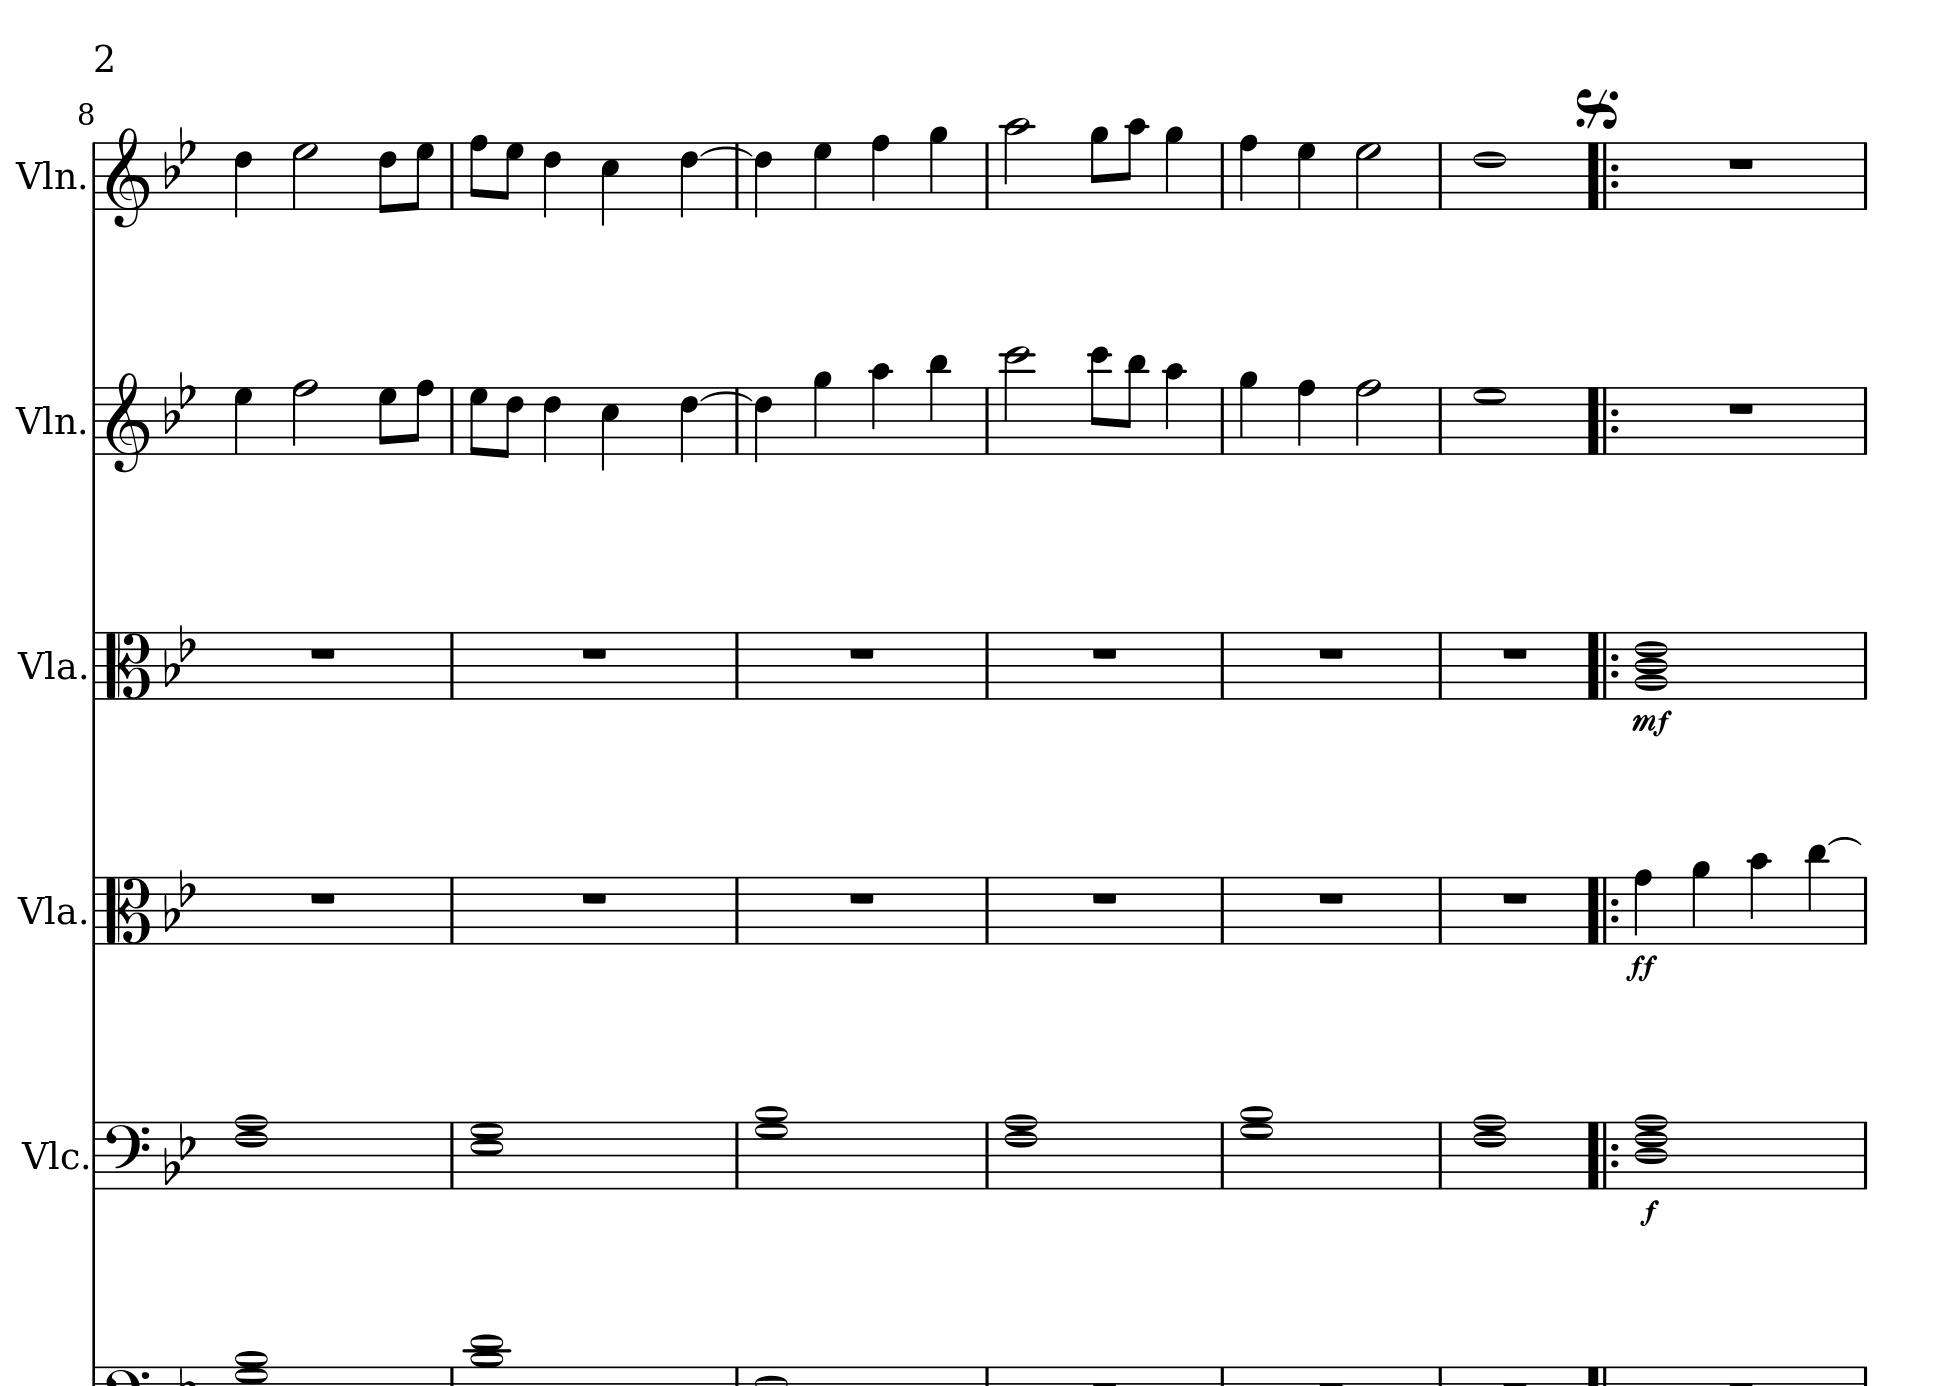1_5_7: (468, 1120, 505, 1192)
1_6: (1473, 139, 1506, 213)
1_6_8: (1003, 1113, 1041, 1191), (234, 1113, 270, 1192), (1473, 1111, 1509, 1191)
1_7: (1473, 384, 1507, 457)
1_7_9: (1237, 1102, 1278, 1192), (754, 1105, 790, 1191)
1_th: (1633, 631, 1669, 697), (1633, 1111, 1669, 1170)
2: (91, 42, 115, 72)
2_10: (1000, 115, 1032, 211)
2_12: (1000, 343, 1033, 457)
2_7: (289, 139, 318, 211), (1353, 139, 1381, 211)
2_8: (289, 376, 318, 456), (1354, 376, 1383, 456)
4_10: (865, 360, 892, 456), (1161, 361, 1188, 456), (1746, 850, 1771, 946)
4_11: (925, 352, 951, 456), (1804, 843, 1828, 946)
4_5: (598, 384, 622, 472), (598, 139, 621, 226)
4_6: (676, 384, 700, 463), (676, 139, 700, 217), (541, 382, 564, 462), (751, 384, 774, 463), (232, 139, 255, 217), (751, 139, 774, 217), (541, 139, 562, 217)
4_7: (811, 139, 834, 211), (232, 385, 255, 454), (1296, 139, 1317, 211)
4_8: (868, 132, 892, 211), (1632, 867, 1656, 946), (1237, 132, 1260, 211), (1296, 376, 1318, 456)
4_9: (810, 367, 834, 456), (925, 124, 949, 211), (1162, 124, 1186, 211), (1236, 369, 1260, 456), (1689, 859, 1713, 946)
8: (76, 97, 94, 127)
8_10: (1119, 115, 1150, 211)
8_11: (1119, 352, 1149, 454)
8_12: (1086, 343, 1113, 454)
8_6: (498, 384, 525, 457), (376, 139, 397, 214)
8_7: (406, 139, 435, 211), (499, 139, 525, 210), (466, 385, 490, 457), (376, 385, 397, 454)
8_8: (406, 376, 435, 456), (466, 132, 489, 211)
8_9: (1087, 124, 1110, 210)
B_F: (162, 867, 196, 931), (163, 121, 196, 187), (163, 367, 196, 433), (163, 1120, 196, 1186), (162, 622, 195, 687)
Cclef: (102, 874, 150, 943), (103, 630, 150, 699)
Fclef: (103, 1117, 151, 1191)
Gclef: (103, 367, 150, 474), (105, 124, 150, 229)
LeftRepeatSign: (1584, 139, 1621, 211), (1584, 385, 1621, 456), (1584, 874, 1621, 945), (1584, 1117, 1620, 1189), (1584, 631, 1620, 700)
Rests1: (1725, 397, 1758, 418), (306, 886, 339, 907), (1725, 153, 1758, 172), (577, 888, 610, 907), (1089, 888, 1122, 907), (1314, 888, 1347, 907), (1498, 643, 1533, 661), (1498, 889, 1533, 907), (846, 888, 877, 907), (306, 643, 337, 661), (579, 643, 610, 661), (846, 643, 877, 661), (1089, 643, 1120, 661), (1315, 643, 1347, 661)
Segno: (1570, 82, 1623, 133)
Single_barline: (1431, 385, 1450, 454), (1213, 141, 1233, 208), (1431, 142, 1450, 208), (1857, 876, 1875, 945), (1431, 1120, 1449, 1188), (978, 142, 996, 208), (727, 142, 745, 208), (1215, 387, 1233, 453), (727, 1122, 745, 1188), (1857, 385, 1873, 454), (85, 630, 102, 699), (85, 874, 102, 943), (1857, 1120, 1873, 1189), (1857, 141, 1873, 208), (1857, 631, 1873, 699), (1432, 631, 1449, 699), (979, 1120, 996, 1188), (444, 142, 460, 208), (444, 387, 460, 453), (729, 631, 745, 697), (979, 633, 996, 699), (444, 877, 460, 943), (729, 877, 745, 943), (979, 877, 996, 943), (1432, 877, 1449, 943), (444, 1122, 460, 1188), (1213, 1122, 1230, 1188), (729, 388, 745, 453), (444, 633, 460, 697), (979, 388, 996, 451), (87, 1120, 102, 1189), (1215, 631, 1230, 697), (1215, 877, 1230, 943), (88, 385, 100, 454), (88, 141, 100, 208)
Slur: (700, 145, 751, 157), (700, 391, 751, 402), (1827, 835, 1863, 846)
Vla: (15, 642, 76, 687), (16, 888, 76, 931)
Vlc: (19, 1132, 78, 1174)
Vln: (15, 397, 76, 442), (16, 154, 76, 196)
f: (1636, 1198, 1662, 1227)
ff: (1623, 951, 1659, 984)
mf: (1630, 706, 1674, 738)
